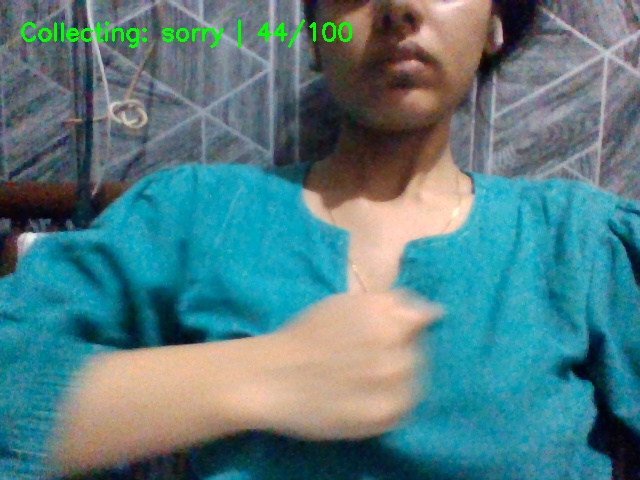sorry: (237, 274, 442, 459)
